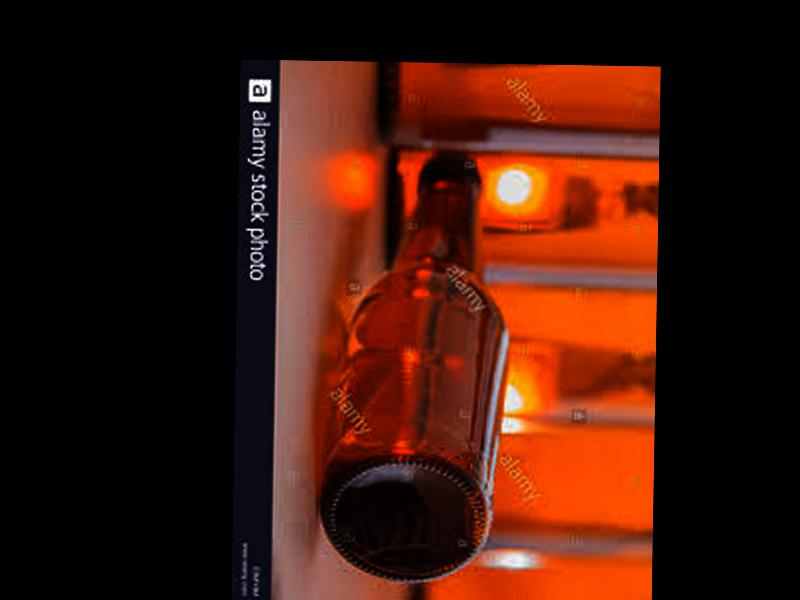Beer: (310, 157, 514, 585)
